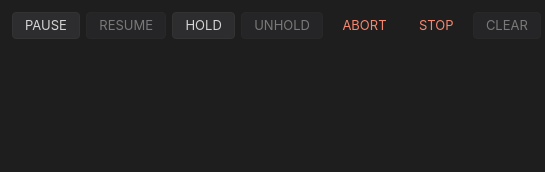
Test: CommandBar › renders an error pill when the command fails
What coordinates should you click on to do the following:
click the button "PAUSE"
I would click on:
 (46, 26)
Its box is [12,12,80,39].
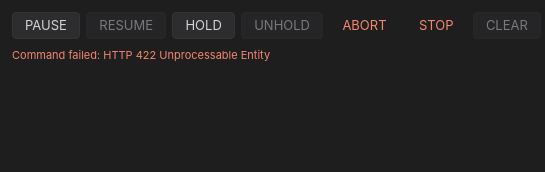
Expected: the message "Command failed: HTTP 422 Unprocessable Entity" is shown, [12,48,270,62]
Expected: the message reads "Command failed: HTTP 422 Unprocessable Entity", [12,48,103,62]
